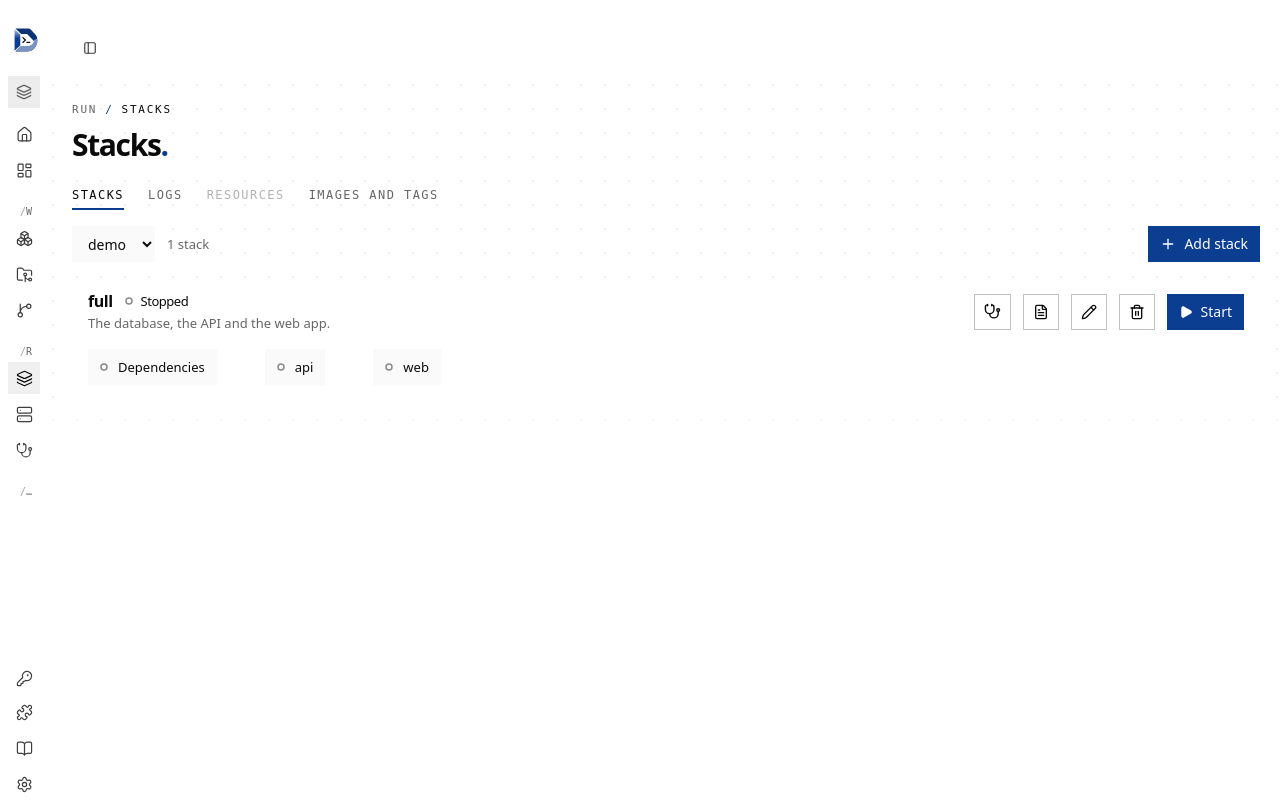
Test case: stacks page › shows a plain message for any other refusal
Click the button "Start" at [1205, 312], box [1167,294,1244,330]
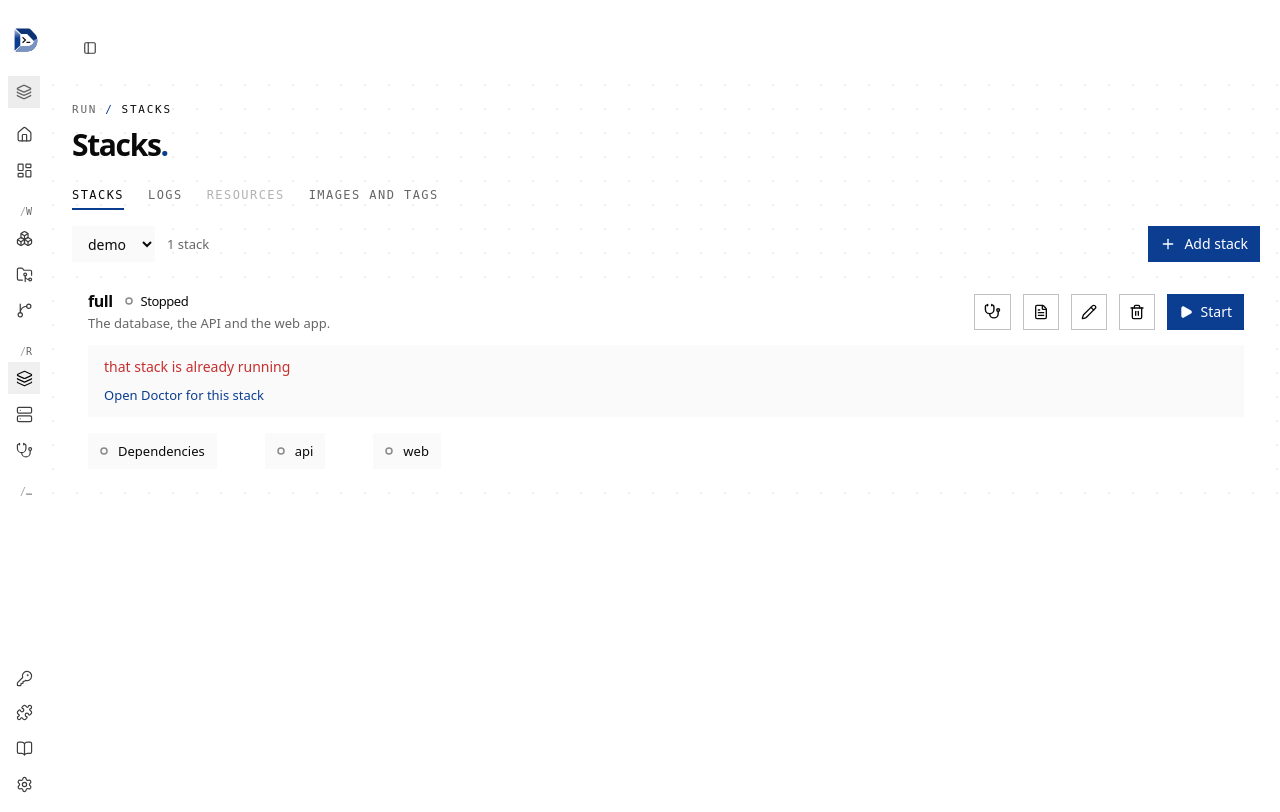
Check: the message shows "that stack is already running", box [104,357,290,376]
